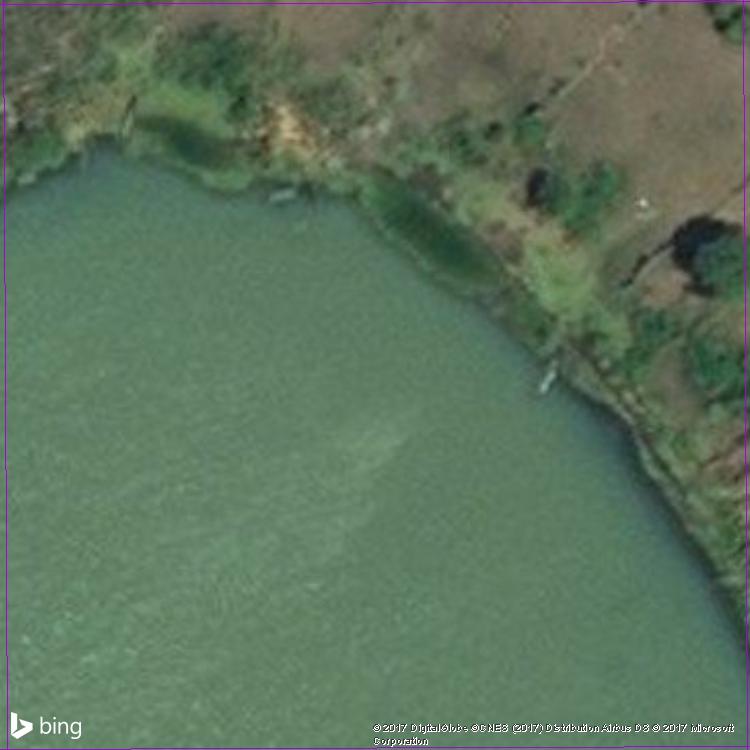boat: (532, 341, 568, 402)
